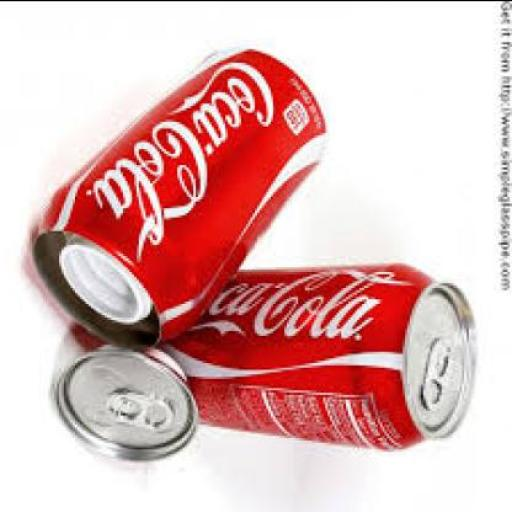metal: (34, 46, 332, 348), (66, 262, 480, 446), (52, 344, 198, 457)
